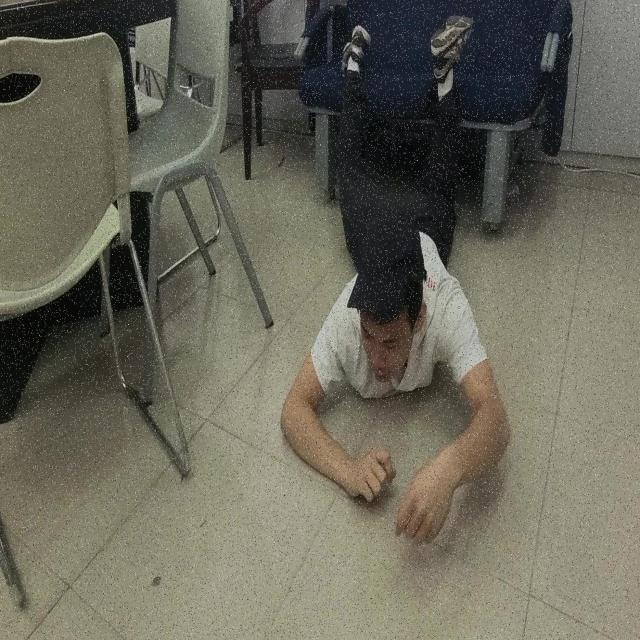fall: (278, 12, 513, 546)
